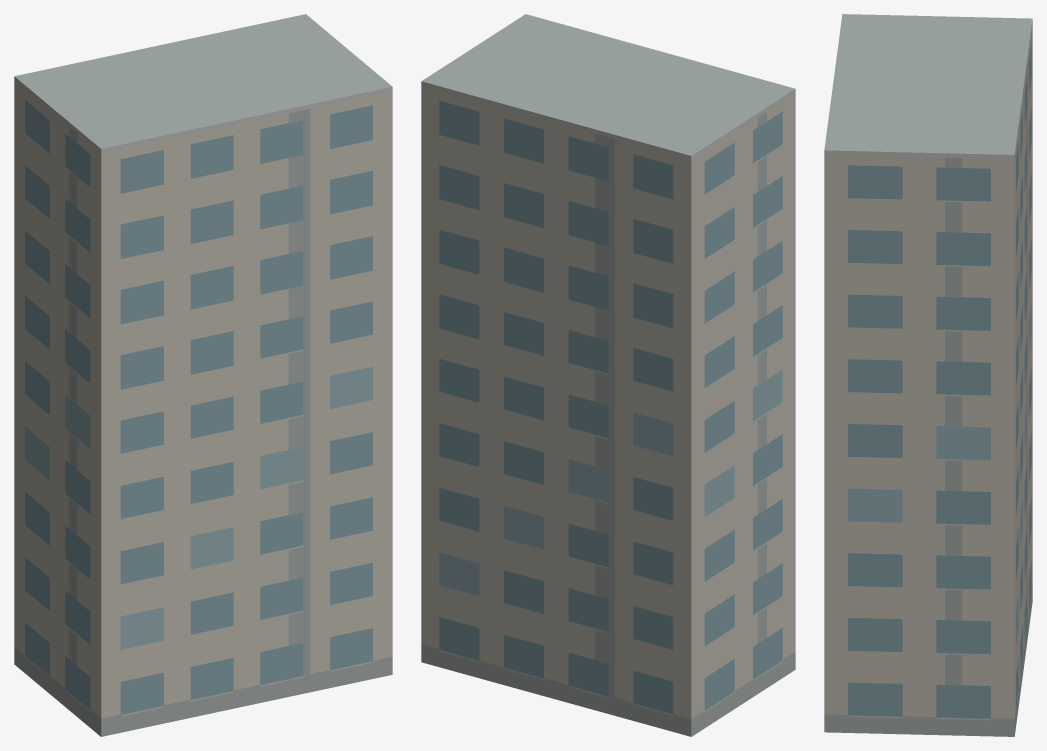
The model's file is residential-13e536d5-f873-4b7b-b8fc-d11e1bc38ee8.glb.
3 renders of one model, left to right at view 1: azimuth 30°, elevation 25°; view 2: azimuth 150°, elevation 25°; view 3: azimuth 270°, elevation 25°, orthographic.
Visible parts, largest first — view 1: residential-13e536d5-f873-4b7b-b8fc-d11e1bc38ee8.tmp; view 2: residential-13e536d5-f873-4b7b-b8fc-d11e1bc38ee8.tmp; view 3: residential-13e536d5-f873-4b7b-b8fc-d11e1bc38ee8.tmp.
Part boxes in pixels (x1,y1,x2,y2): residential-13e536d5-f873-4b7b-b8fc-d11e1bc38ee8.tmp: (14,14,392,736); residential-13e536d5-f873-4b7b-b8fc-d11e1bc38ee8.tmp: (421,14,795,736); residential-13e536d5-f873-4b7b-b8fc-d11e1bc38ee8.tmp: (824,14,1032,736).
Size of the model in its own units: 16.63 by 32 by 10.4.
